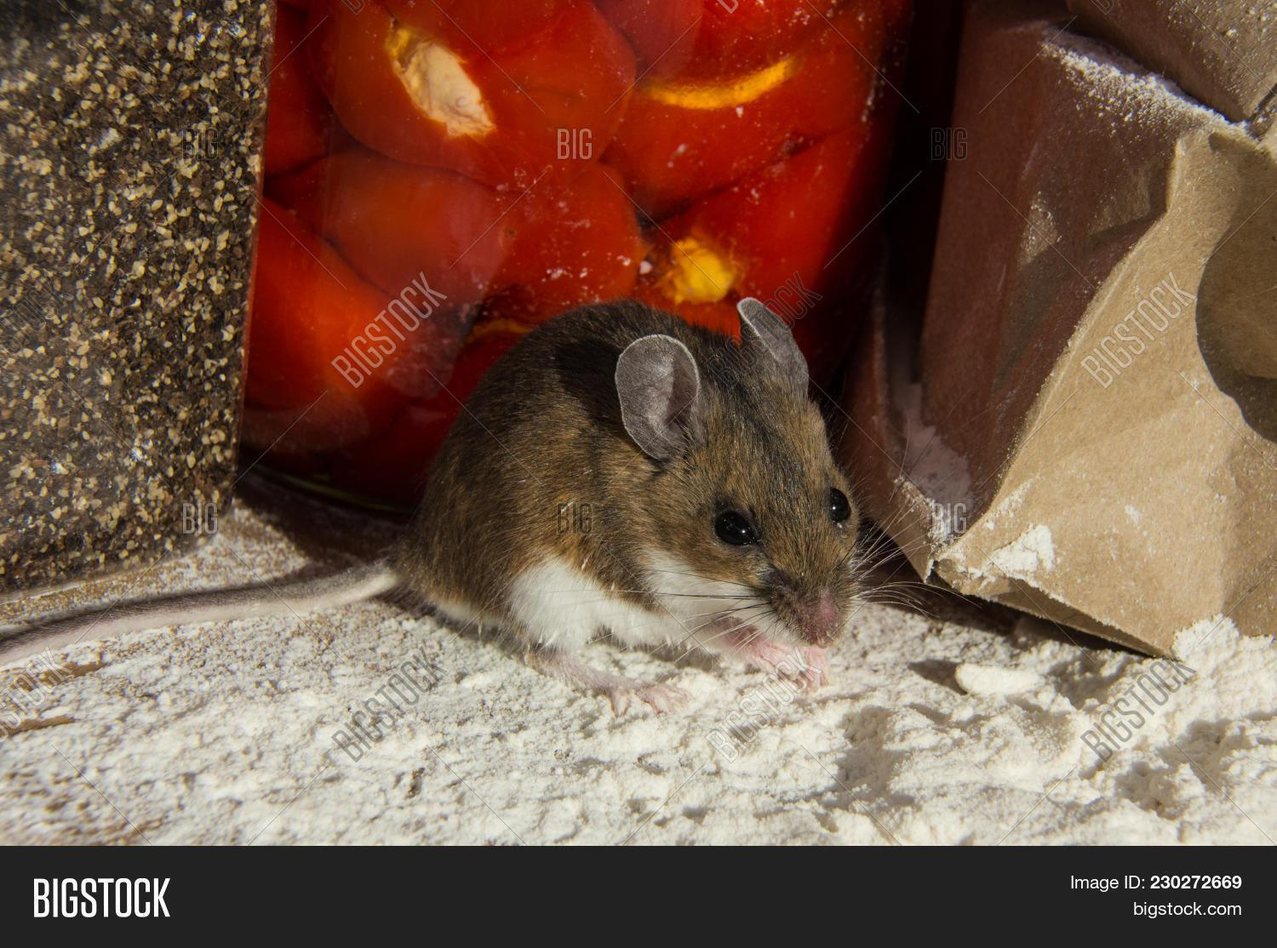rat: (4, 296, 860, 710)
